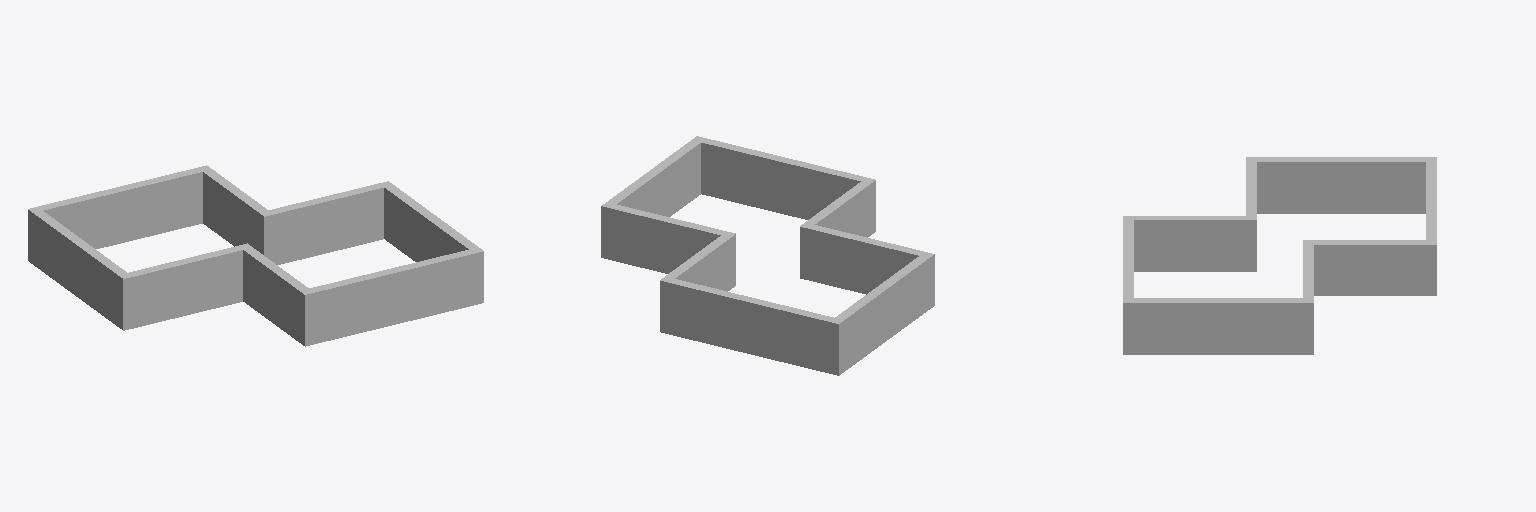
The model's file is wall.obj.
3 views of the same model, side by side, from view 1: azimuth 30°, elevation 25°; view 2: azimuth 150°, elevation 25°; view 3: azimuth 270°, elevation 25° (orthographic).
Bounding box in the file's own units: 4492 × 742 × 4092.